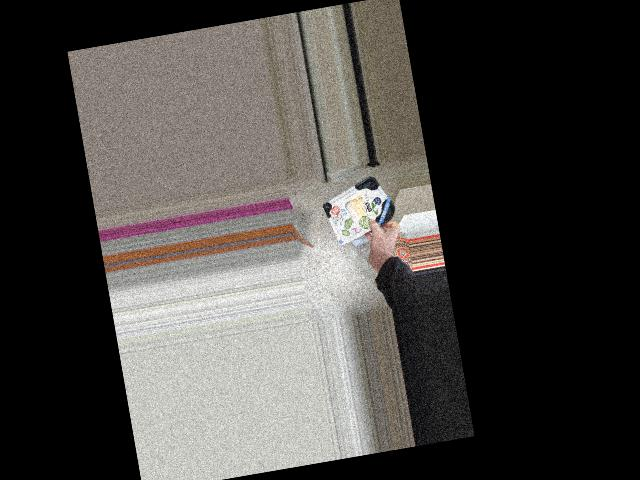cheese: (322, 183, 396, 240)
